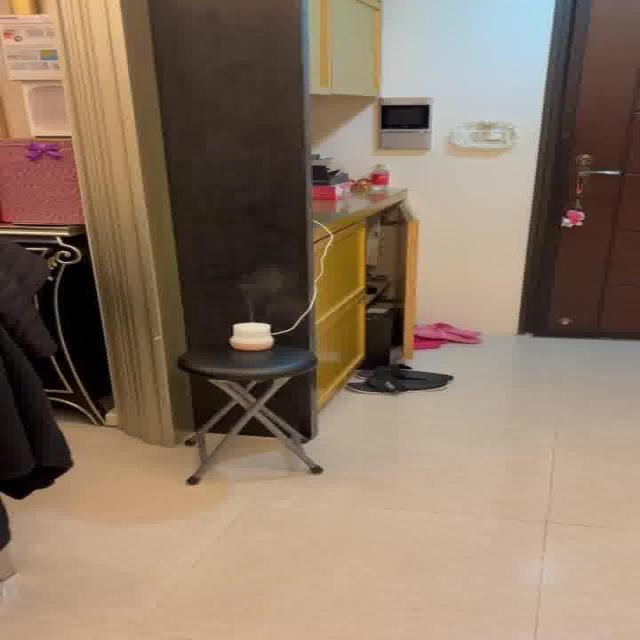fire: (228, 264, 294, 314)
